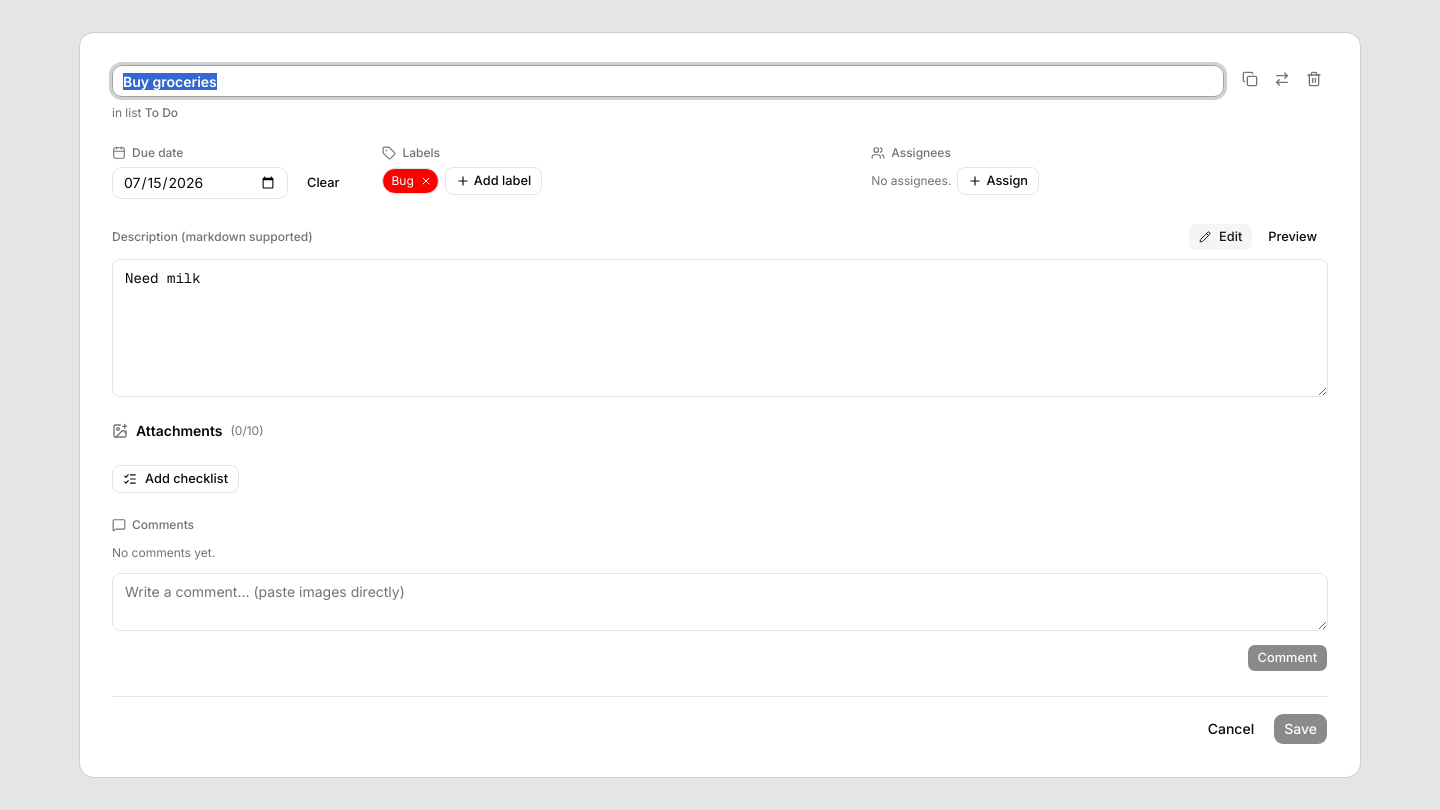
CardDetail modal › removes a label via the X on the attached chip
expect the field named "Card title" is shown: met, box [112,65,1224,97]
Click the button named "remove bug" at point(426, 181), box [418,173,434,189]
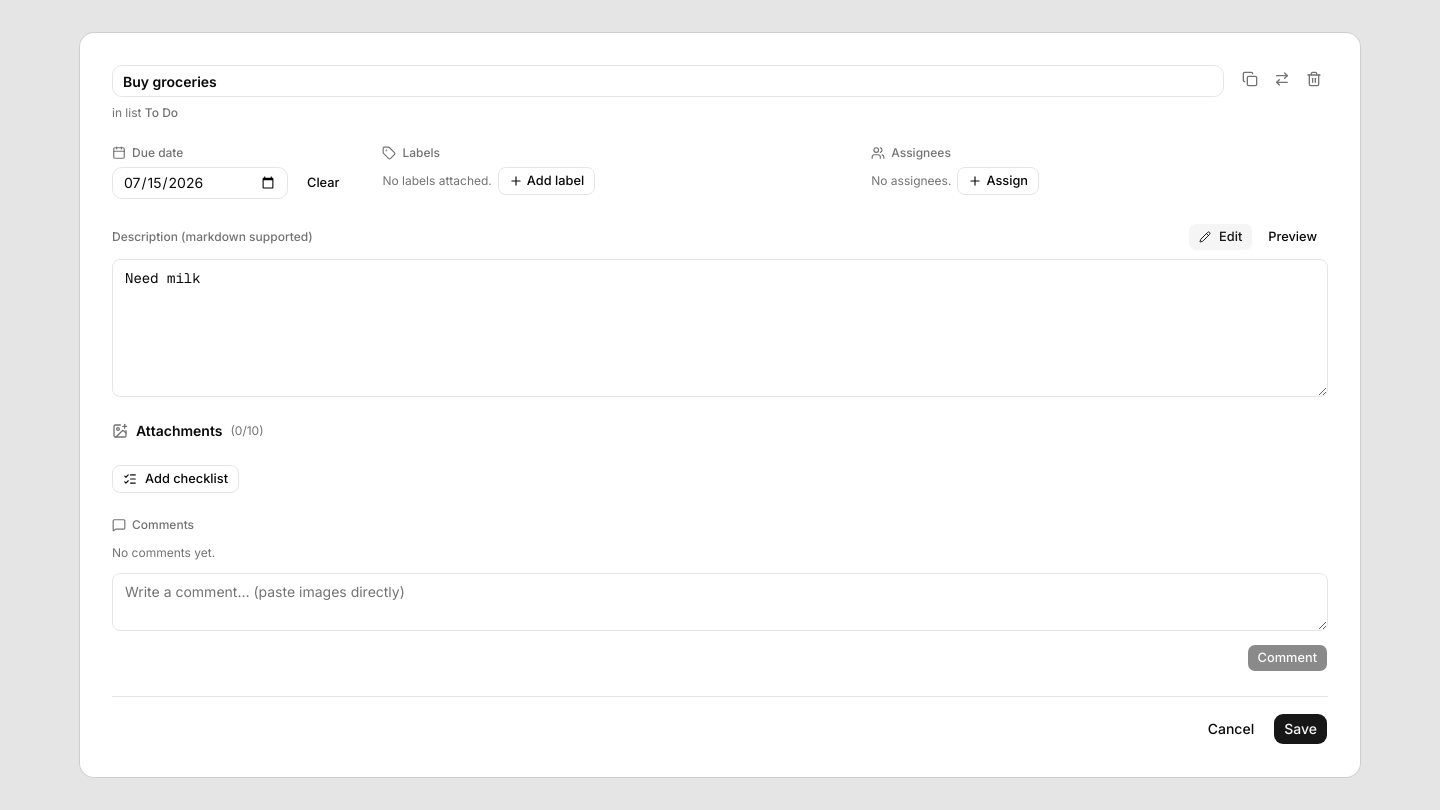
expect the element with test id "attached-label" is gone: met
